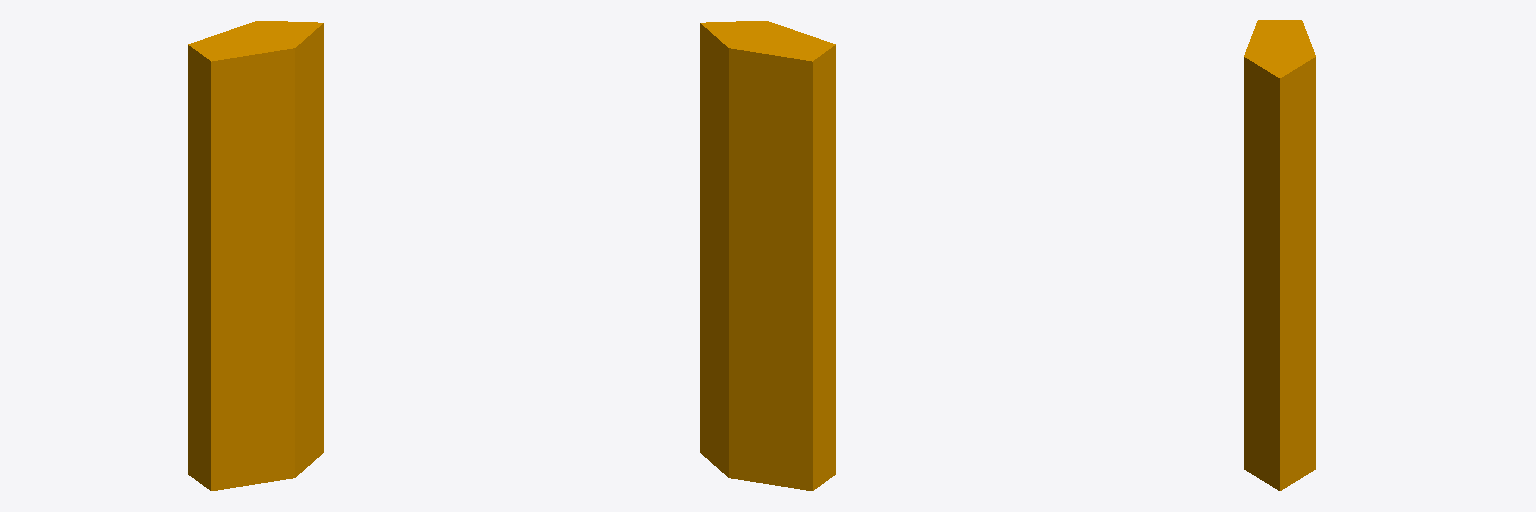
URDF robot description (pentagon):
<?xml version="1.0" ?>
<robot name="pentagon">

    <link name="pentagon">
        <visual>
            <origin rpy="1.5707963267948966 0 -1.5707963267948966" xyz="-0.00 0 -0.0"/>
            <geometry>
                <mesh filename="Shapes/pentagon.obj" scale="0.03535 .1 0.0707"/>
            </geometry>
        </visual>
        <collision>
            <origin rpy="1.5707963267948966 0 -1.5707963267948966" xyz="-0.00 0 -0.0"/>
            <geometry>
                <mesh filename="Shapes/pentagon.obj" scale="0.03535 .1 0.0707"/>
            </geometry>
        </collision>
        <inertial>
            <mass value="0.3"/>
            <inertia ixx="0.000029435425" ixy="0.0" ixz="0.0" iyy="0.000029435425" iyz="0.0" izz="0.00000725805"/>
        </inertial>
    </link>

</robot>

--- Facts derived from the render (not from the file) ---
Views: 3 orthographic renders of the robot side by side, from view 1: azimuth 30°, elevation 25°; view 2: azimuth 150°, elevation 25°; view 3: azimuth 270°, elevation 25°.
Model pentagon with 1 links and 0 joints (none), rooted at pentagon, posed all joints at 0.
Visible links, largest first — view 1: pentagon; view 2: pentagon; view 3: pentagon.
Boxes of the visible links, box(x1,y1,x2,y2) form: pentagon: box(188, 21, 323, 490); pentagon: box(700, 21, 835, 490); pentagon: box(1244, 20, 1315, 490).
Size in the robot's own frame: 0.0303 by 0.0159 by 0.1 metres.
1 mesh visuals loaded from 1 distinct referenced files (1 OBJ).
